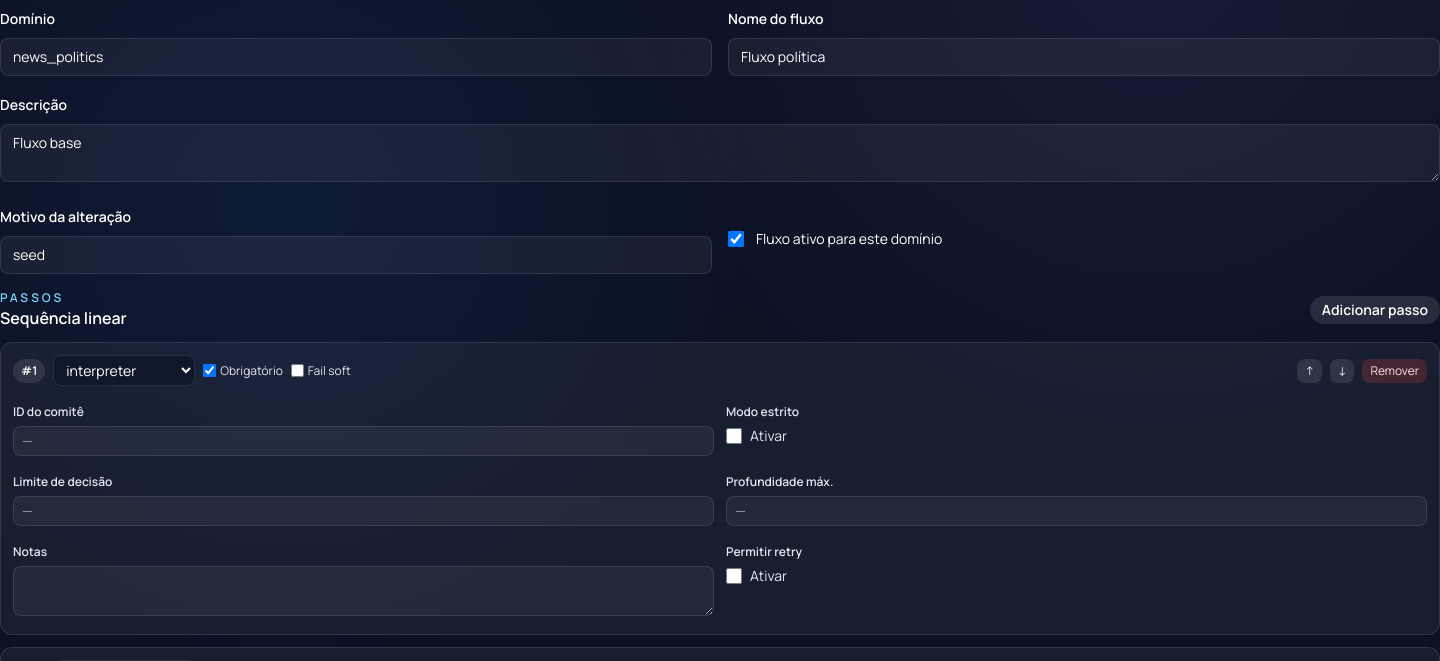
Scenario: AgentFlowEditor › renders steps and allows adding a new one
This screenshot has width=1440, height=661.
Expected: the text "#1" is shown, [13, 358, 45, 382]
Step 1. Click the button "Adicionar passo" → click(1375, 310), box [1310, 296, 1439, 324]
(page scrolled)
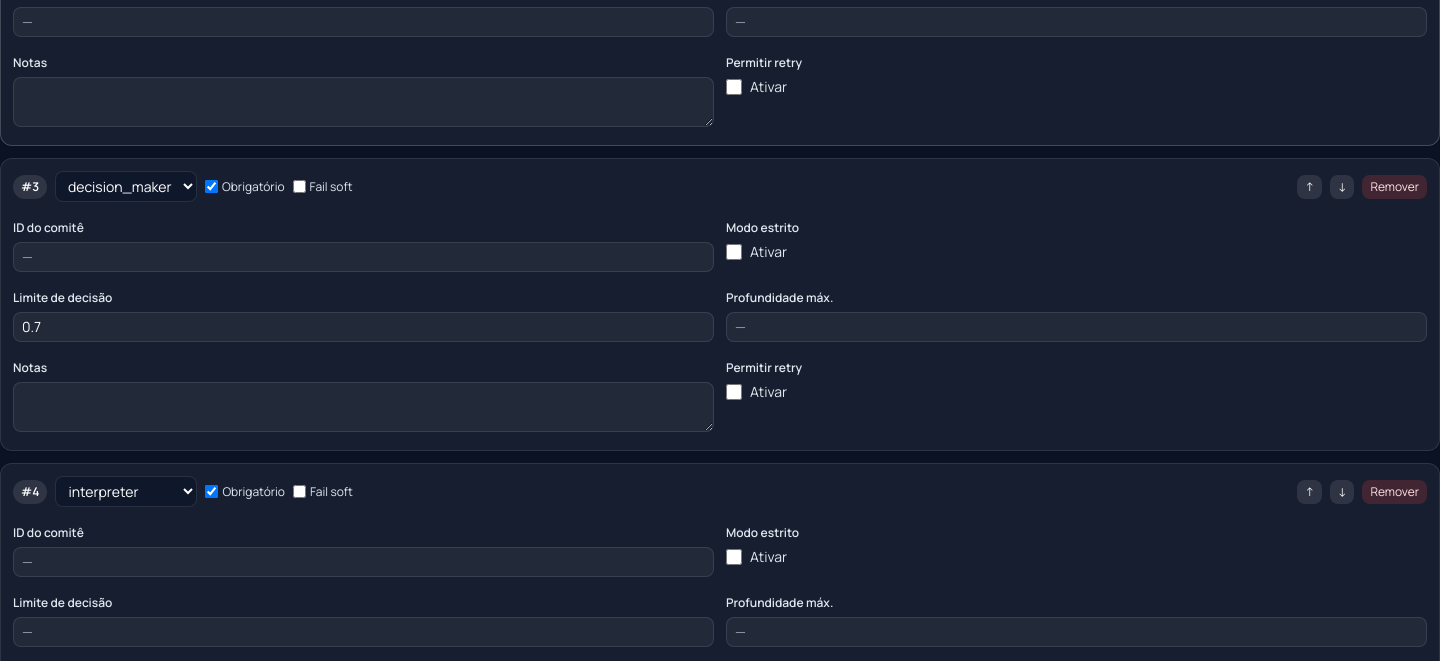
Expected: the text "#4" is shown, [13, 480, 47, 504]
